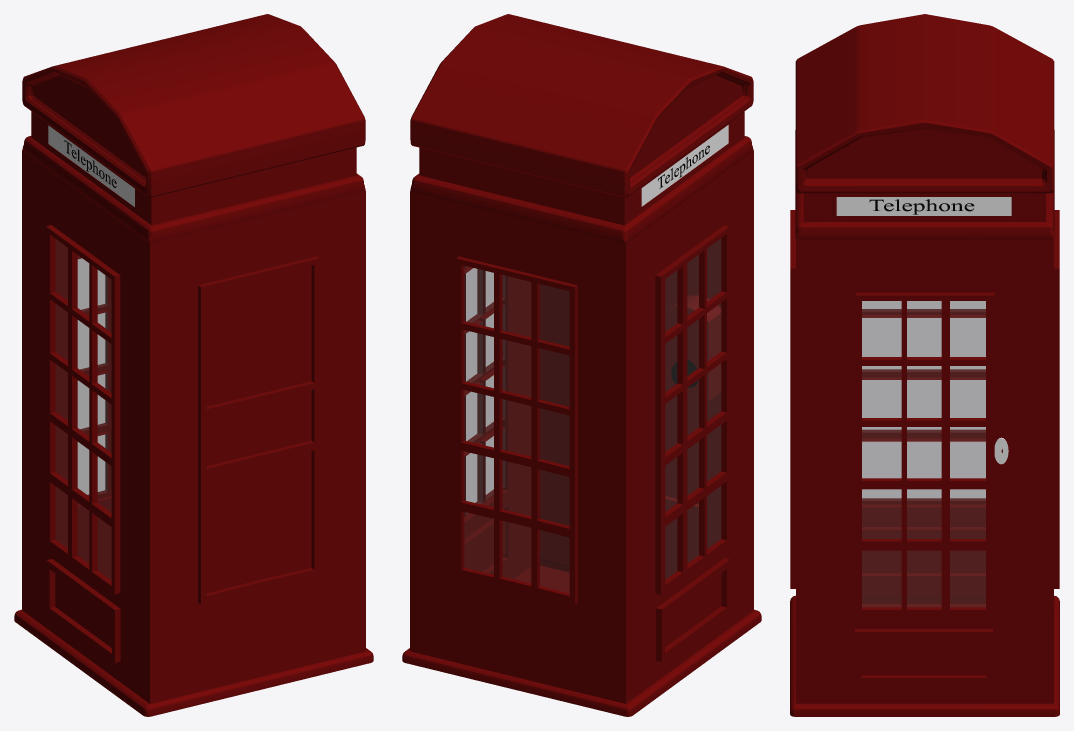
The model's file is asset.glb.
3 views of the same model, side by side, from view 1: azimuth 30°, elevation 25°; view 2: azimuth 150°, elevation 25°; view 3: azimuth 270°, elevation 25° (orthographic).
Parts seen in each view (by area): view 1: polySurface44; view 2: polySurface44; view 3: polySurface44.
Part boxes in pixels (x1,y1,x2,y2): polySurface44: (14, 14, 373, 716); polySurface44: (402, 14, 761, 716); polySurface44: (790, 14, 1059, 716).
Bounding box in the file's own units: 0.0412 × 0.101 × 0.0416.
